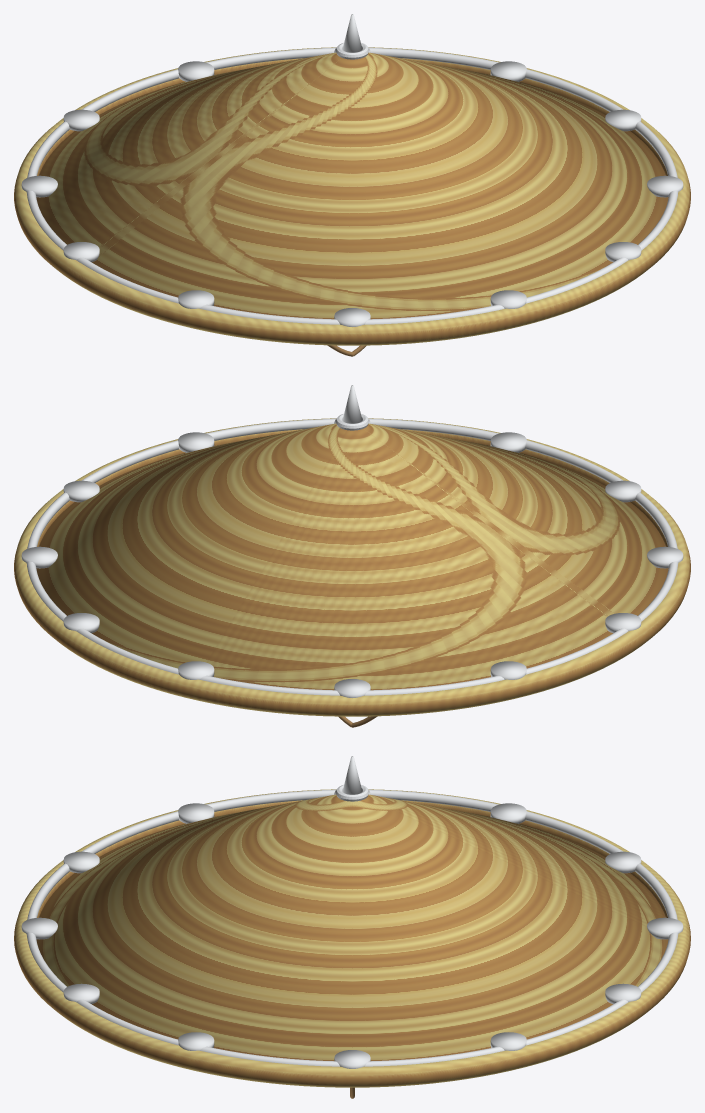
Rendered from salakot_elite.glb.
The picture shows the model from 3 angles, top to bottom: view 1: azimuth 30°, elevation 25°; view 2: azimuth 150°, elevation 25°; view 3: azimuth 270°, elevation 25°; orthographic projection.
Parts seen in each view (by area): view 1: SalakatCone, Brim, RimBand, Medallion_5, Medallion_11, Medallion_0, Medallion_4, Medallion_3, Medallion_1, Medallion_6, Medallion_10, Medallion_7 (+2 smaller); view 2: SalakatCone, Brim, RimBand, Medallion_1, Medallion_7, Medallion_0, Medallion_8, Medallion_9, Medallion_11, Medallion_6, Medallion_2, Medallion_3 (+2 smaller); view 3: SalakatCone, Brim, RimBand, Medallion_3, Medallion_9, Medallion_4, Medallion_8, Medallion_5, Medallion_7, Medallion_2, Medallion_10, Medallion_1 (+2 smaller).
Boxes of the visible parts, x1=… form: SalakatCone: x1=36, y1=52, x2=668, y2=319; Brim: x1=14, y1=47, x2=690, y2=345; RimBand: x1=26, y1=47, x2=678, y2=324; Medallion_5: x1=21, y1=175, x2=57, y2=197; Medallion_11: x1=647, y1=175, x2=683, y2=197; Medallion_0: x1=605, y1=109, x2=641, y2=131; Medallion_4: x1=63, y1=109, x2=99, y2=131; Medallion_3: x1=178, y1=61, x2=214, y2=81; Medallion_1: x1=490, y1=61, x2=526, y2=81; Medallion_6: x1=63, y1=242, x2=99, y2=262; Medallion_10: x1=605, y1=242, x2=641, y2=262; Medallion_7: x1=178, y1=290, x2=214, y2=308; SalakatCone: x1=36, y1=423, x2=668, y2=690; Brim: x1=14, y1=418, x2=690, y2=716; RimBand: x1=26, y1=418, x2=678, y2=695; Medallion_1: x1=21, y1=546, x2=57, y2=568; Medallion_7: x1=647, y1=546, x2=683, y2=568; Medallion_0: x1=63, y1=480, x2=99, y2=502; Medallion_8: x1=605, y1=480, x2=641, y2=502; Medallion_9: x1=490, y1=432, x2=526, y2=452; Medallion_11: x1=178, y1=432, x2=214, y2=452; Medallion_6: x1=605, y1=613, x2=641, y2=633; Medallion_2: x1=63, y1=613, x2=99, y2=633; Medallion_3: x1=178, y1=661, x2=214, y2=679; SalakatCone: x1=36, y1=794, x2=668, y2=1060; Brim: x1=14, y1=789, x2=690, y2=1087; RimBand: x1=26, y1=789, x2=678, y2=1066; Medallion_3: x1=647, y1=917, x2=683, y2=939; Medallion_9: x1=21, y1=917, x2=57, y2=939; Medallion_4: x1=605, y1=851, x2=641, y2=873; Medallion_8: x1=63, y1=851, x2=99, y2=873; Medallion_5: x1=490, y1=803, x2=526, y2=823; Medallion_7: x1=178, y1=803, x2=214, y2=823; Medallion_2: x1=605, y1=983, x2=641, y2=1004; Medallion_10: x1=63, y1=983, x2=99, y2=1004; Medallion_1: x1=490, y1=1032, x2=526, y2=1050.
Size of the model in its own units: 1.13 by 0.6273 by 1.13.
3 materials, 1 textured.
